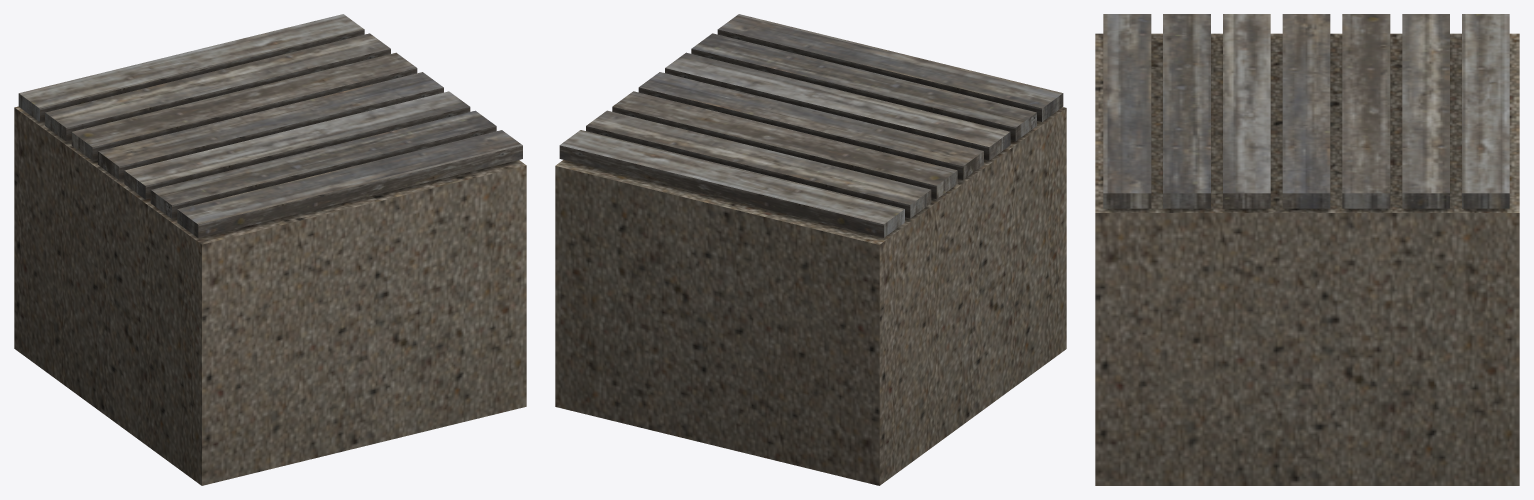
Rendered from bank.obj.
3 views of the same model, side by side, from view 1: azimuth 30°, elevation 25°; view 2: azimuth 150°, elevation 25°; view 3: azimuth 270°, elevation 25° (orthographic). The views are drawn at different scales.
Visible parts, largest first — view 1: Test_bank; view 2: Test_bank; view 3: Test_bank.
Part boxes in pixels (x1=…): Test_bank: x1=14, y1=14, x2=526, y2=485; Test_bank: x1=555, y1=14, x2=1066, y2=485; Test_bank: x1=1095, y1=14, x2=1519, y2=485.
Size of the model in its own units: 0.5 by 0.3806 by 0.5.
